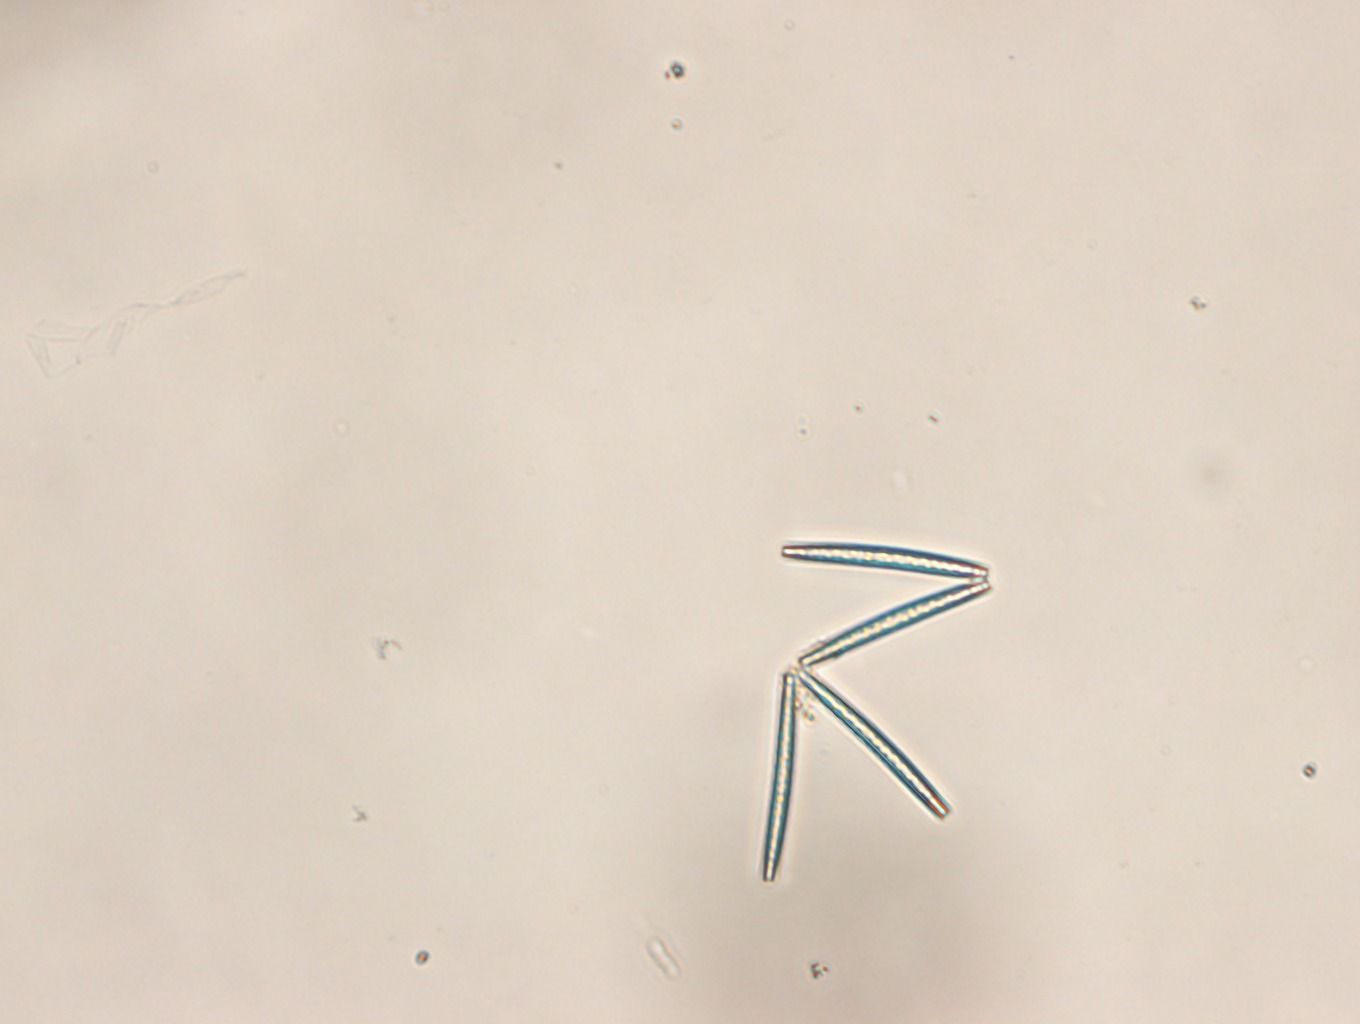thalassionema nitzschioides: (761, 539, 993, 887)
